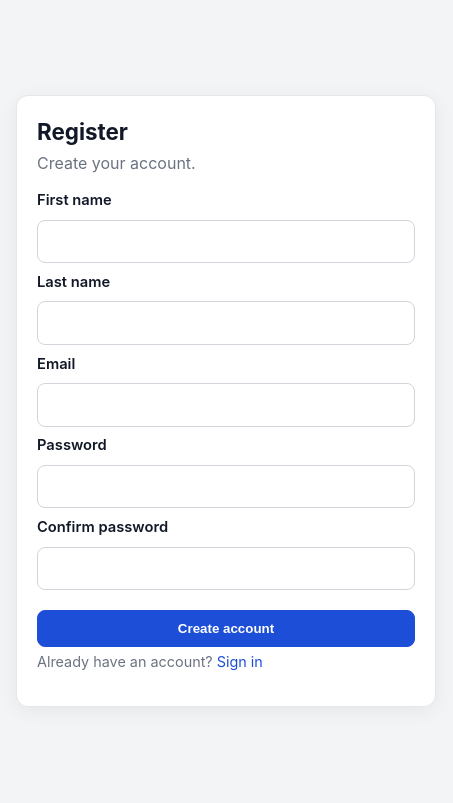
Test case: RegisterPage integration › validates required fields and blocks submission
The image size is (453, 803).
What coordinates should you click on to do the following:
click the button "Create account"
I would click on:
 (226, 629)
Its box is [37,610,415,647].
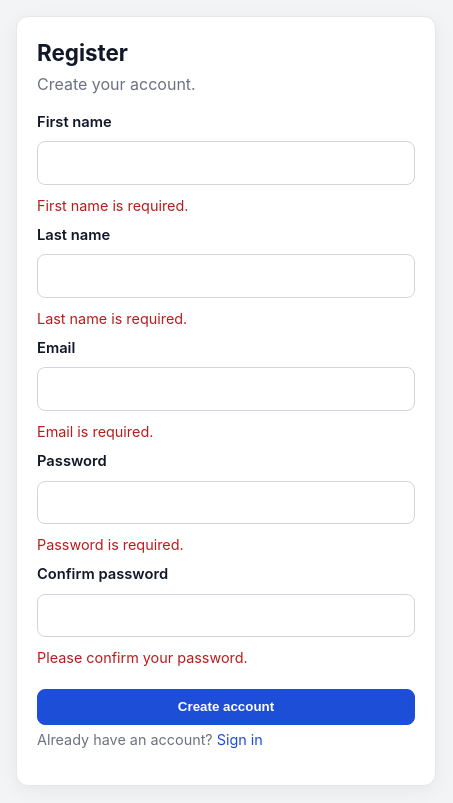
Now the text "First name is required." is shown, box [37,197,188,214]
Now the text "Last name is required." is shown, box [37,310,187,327]
Now the text "Email is required." is shown, box [37,423,153,440]
